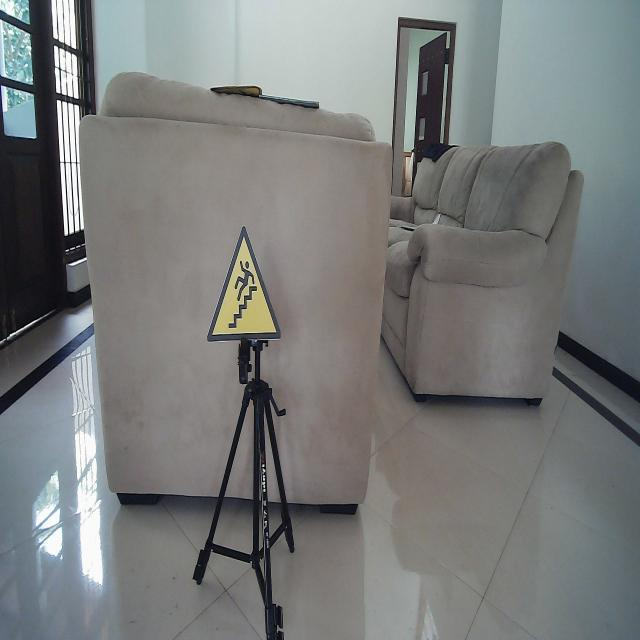stairs: (206, 224, 282, 344)
